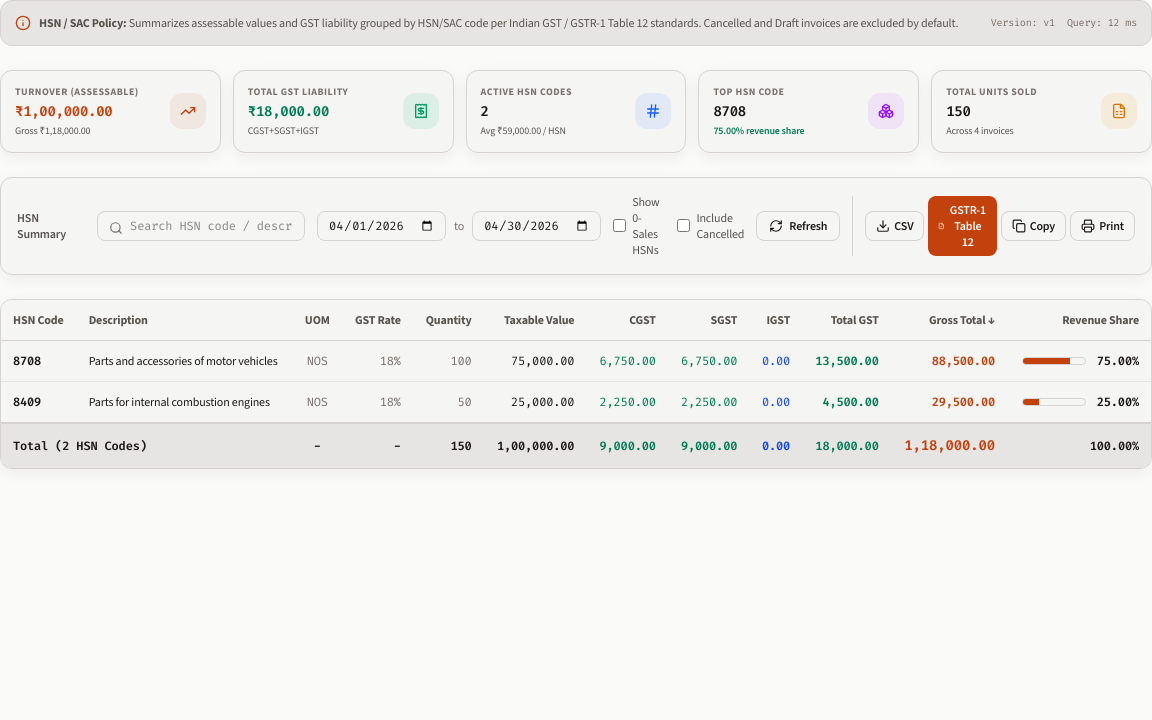
it: HsnWiseReportTab Component › 3. Drills down into Level 3 Invoices on Item row click and supports Back navigation
Click the row with test id "hsn-row-8708". click: [576, 361]
box: [1,340,1151,381]
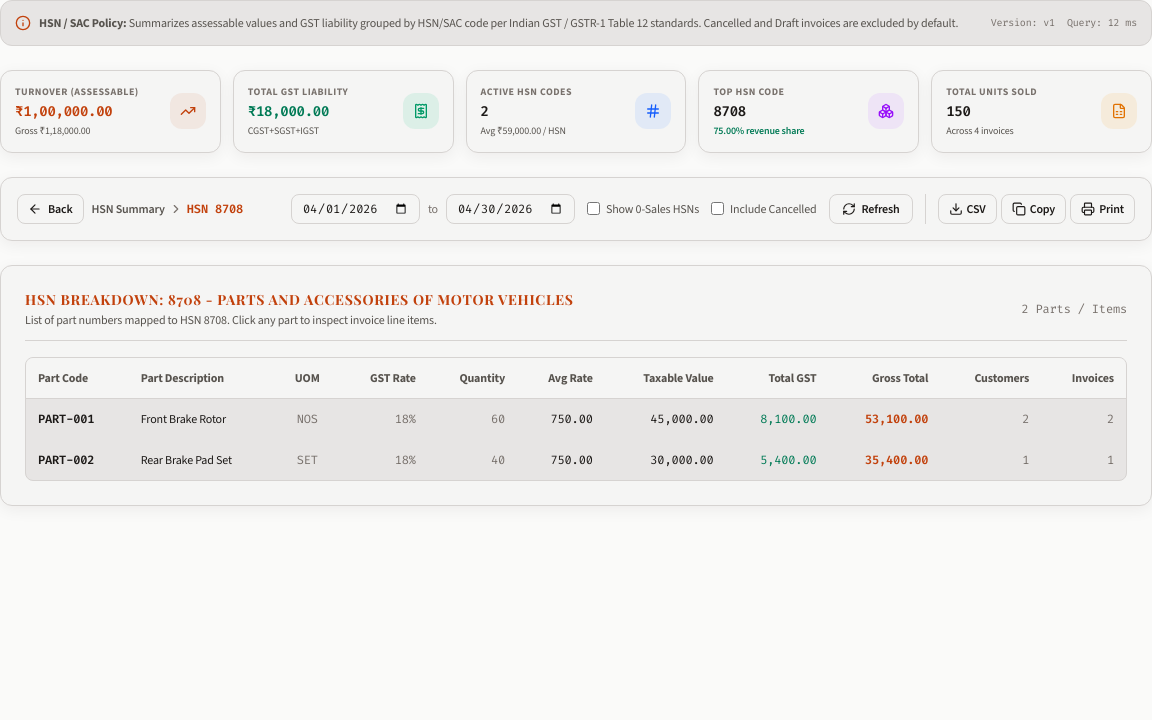
Expected: the row with test id "hsn-item-row-PART-001" is shown
Click the row with test id "hsn-item-row-PART-001". click: [576, 419]
box: [26,398,1126,439]
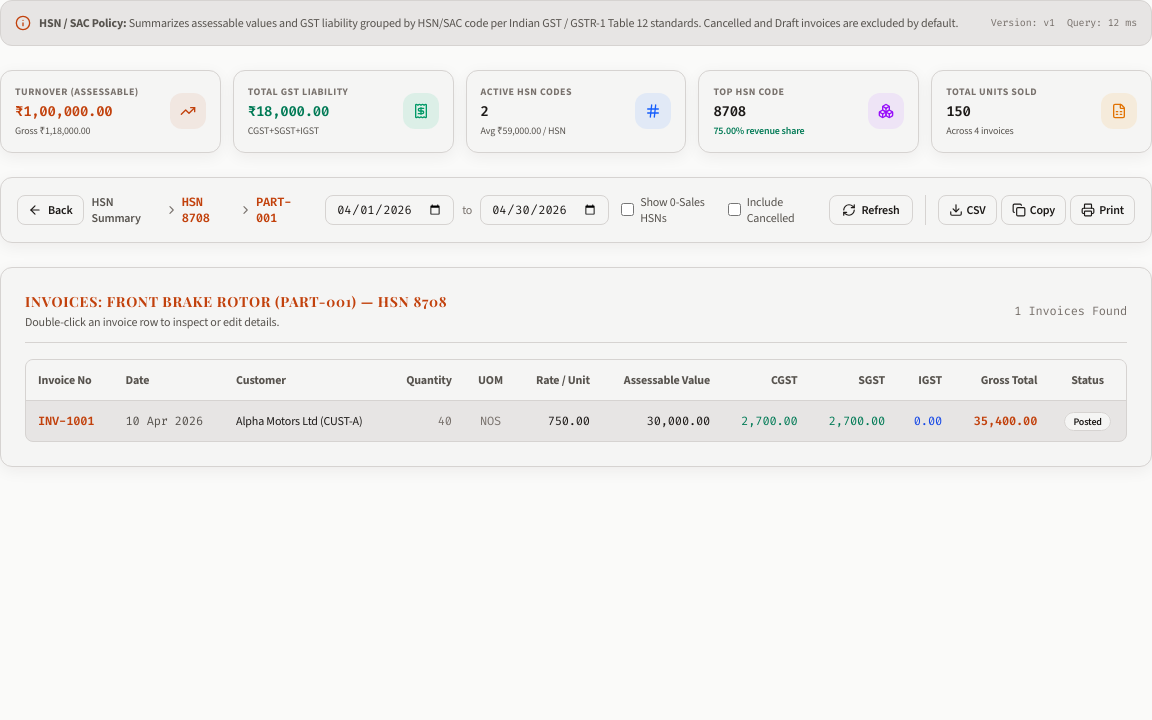
Expected: the table with test id "hsn-level3-table" is shown, [26,360,1126,441]
Expected: the text "INV-1001" is shown
// Double click invoice row
Double-click the text "INV-1001" at [70, 420], box [26,400,114,441]
// Back to Level 2
Click the button with test id "hsn-back-btn". click: [50, 210]
box: [17,195,84,225]
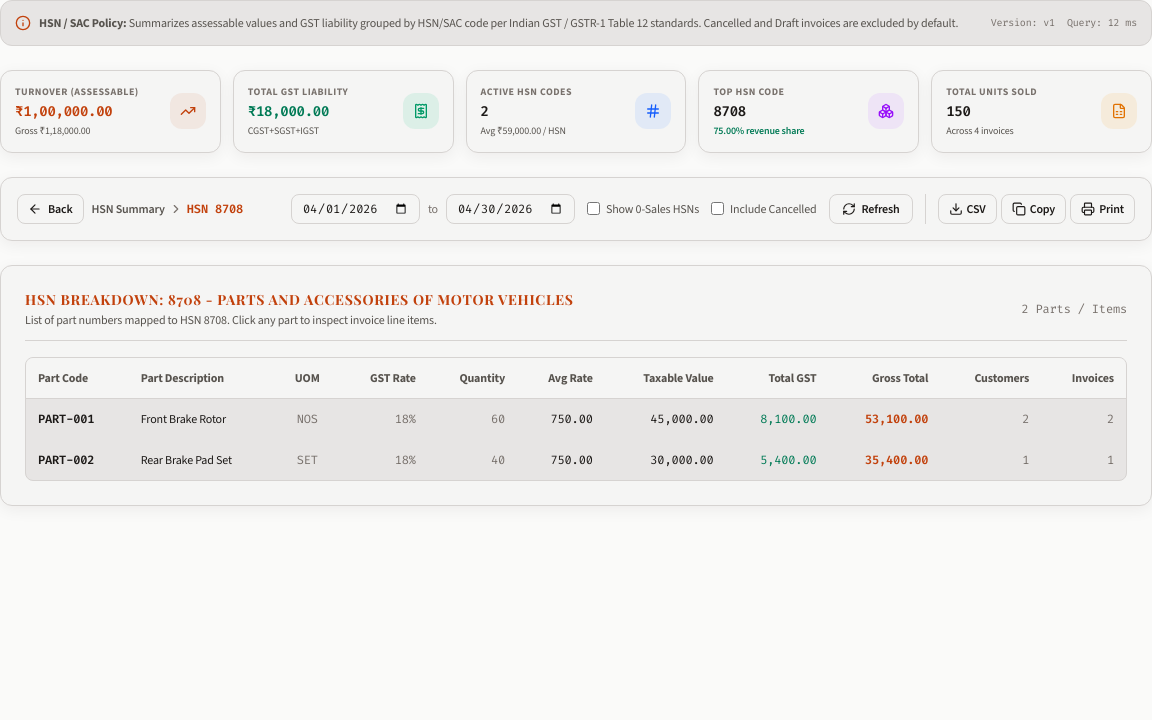
Expected: the table with test id "hsn-level2-table" is shown, [26,358,1126,480]
// Back to Level 1
Click the button with test id "hsn-back-btn". click: [50, 209]
box: [17,194,84,224]
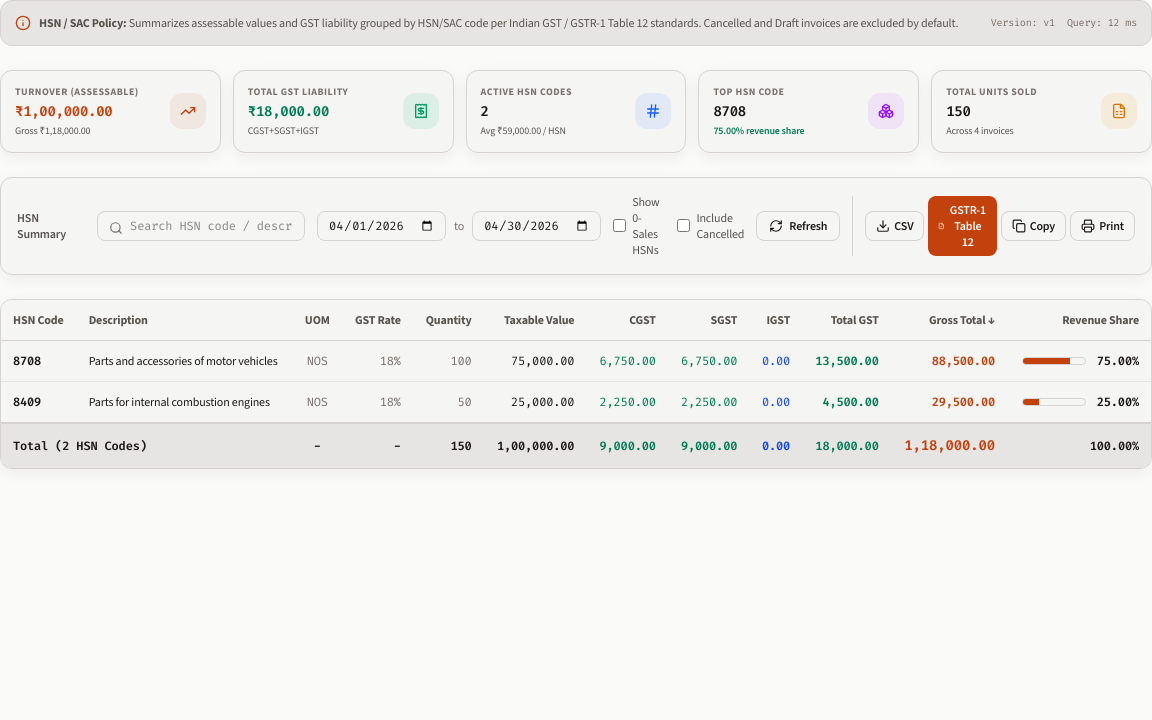
Expected: the table with test id "hsn-level1-table" is shown, [1,300,1151,468]
